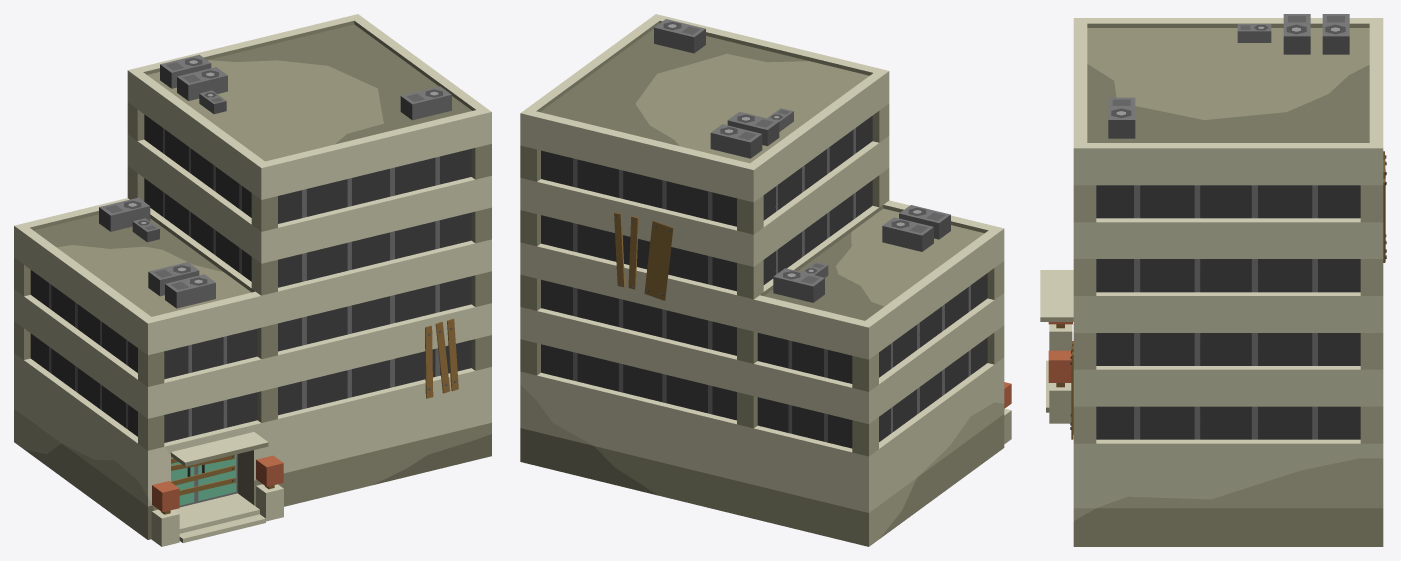
The model's file is SA_Bld_OfficeWhite_04.gltf.
The picture shows the model from 3 angles, left to right: view 1: azimuth 30°, elevation 25°; view 2: azimuth 150°, elevation 25°; view 3: azimuth 270°, elevation 25°; orthographic projection. The views are drawn at different scales.
Parts seen in each view (by area): view 1: SA_Bld_OfficeWhite_04; view 2: SA_Bld_OfficeWhite_04; view 3: SA_Bld_OfficeWhite_04.
Part boxes in pixels (bbox=[...]): SA_Bld_OfficeWhite_04: bbox=[14, 14, 491, 546]; SA_Bld_OfficeWhite_04: bbox=[520, 14, 1011, 546]; SA_Bld_OfficeWhite_04: bbox=[1040, 14, 1386, 546].
Bounding box in the file's own units: 20.34 × 20.13 × 15.31.
Materials: 1 (1 with a texture image).
